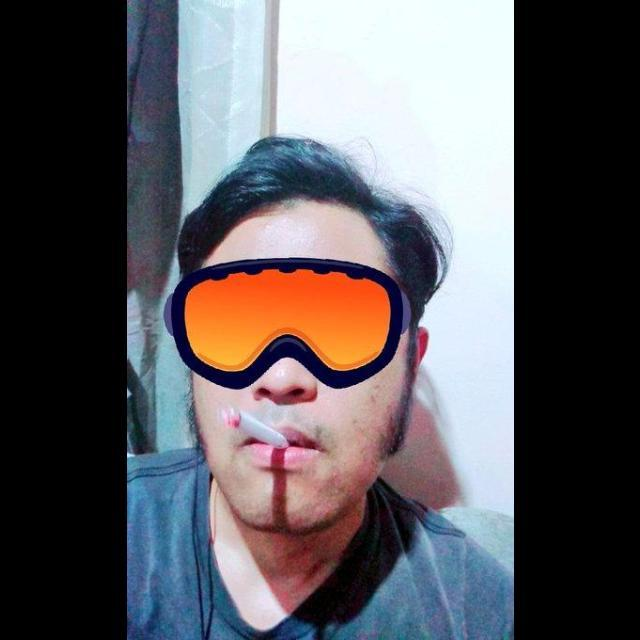rokok: (213, 400, 290, 454)
